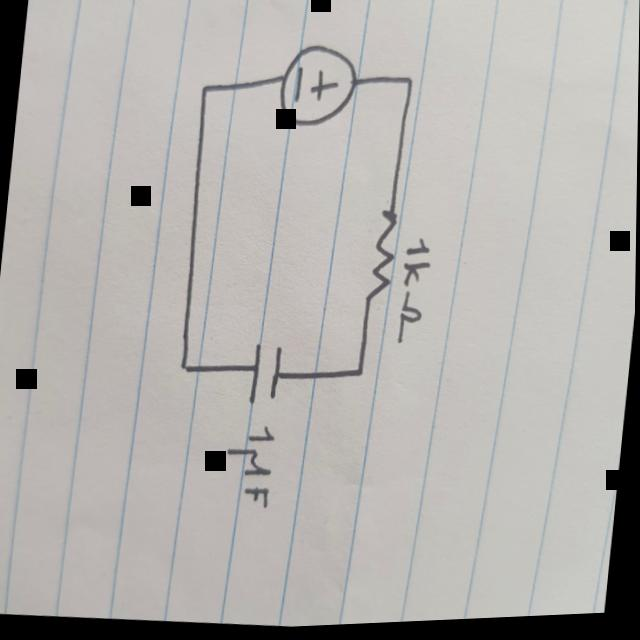capacitor: (246, 337, 286, 408)
junction: (352, 358, 368, 390), (197, 78, 213, 101), (402, 71, 417, 93), (180, 357, 196, 377)
resistor: (361, 205, 405, 309)
source: (272, 41, 359, 133)
text: (392, 229, 438, 359), (221, 422, 278, 510)
